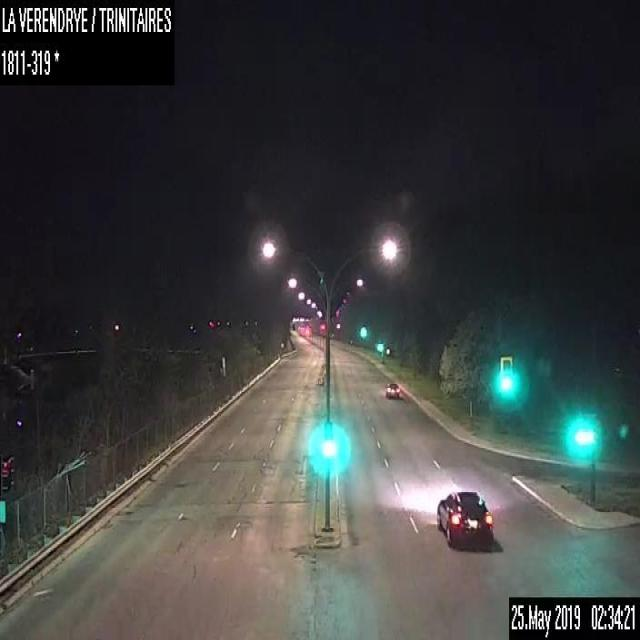vehicle: (436, 488, 494, 547), (385, 382, 399, 396)
